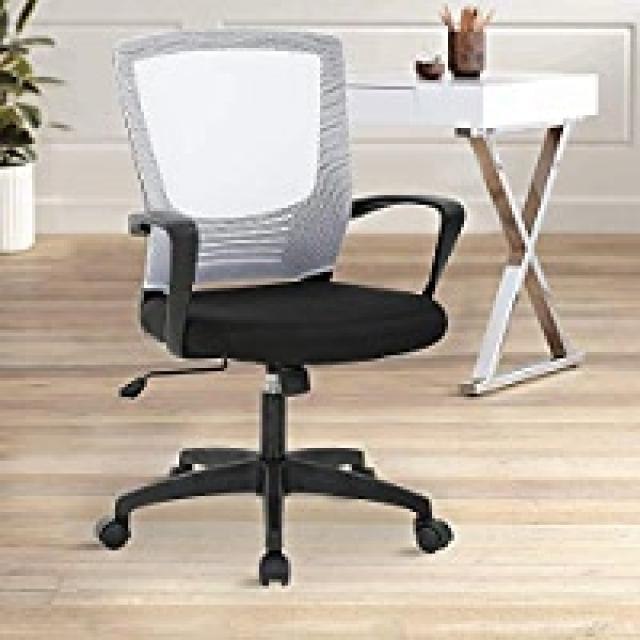chair: (72, 16, 470, 626)
